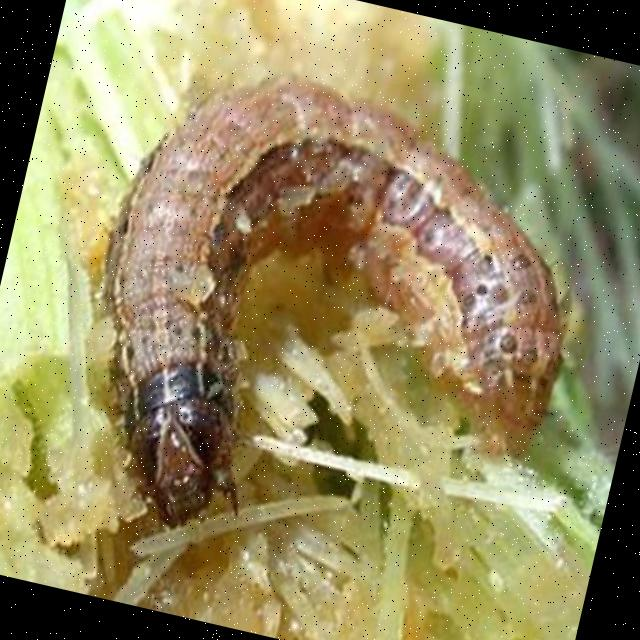worm: (46, 40, 616, 608)
